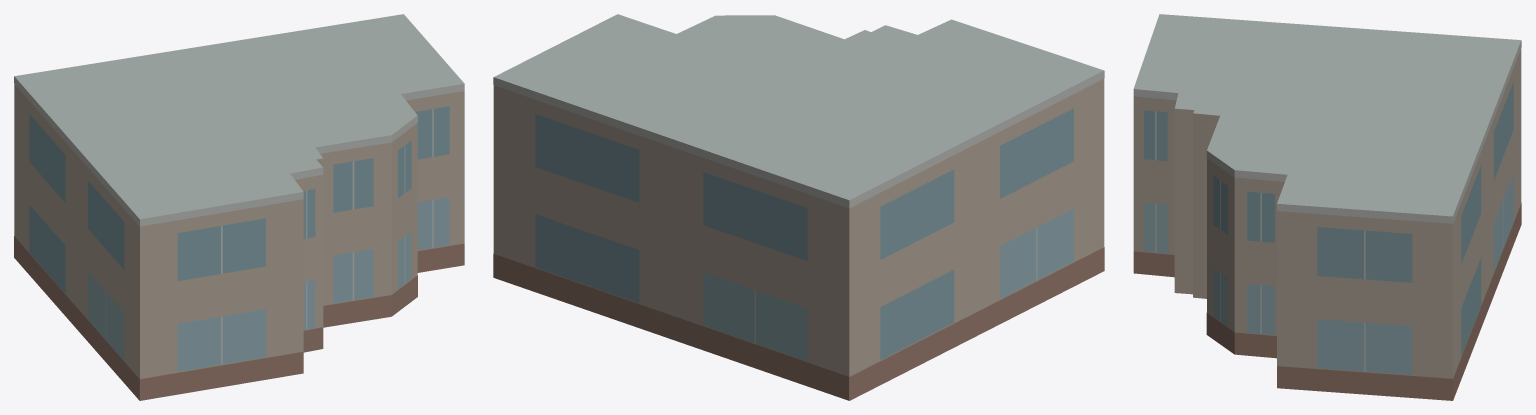
The model's file is survey-upis-32940660.glb.
3 views of the same model, side by side, from view 1: azimuth 30°, elevation 25°; view 2: azimuth 150°, elevation 25°; view 3: azimuth 270°, elevation 25° (orthographic). The views are drawn at different scales.
Parts seen in each view (by area): view 1: survey-upis-32940660.tmp; view 2: survey-upis-32940660.tmp; view 3: survey-upis-32940660.tmp.
Part boxes in pixels (left/top/right/bottom): survey-upis-32940660.tmp: left=14, top=14, right=464, bottom=400; survey-upis-32940660.tmp: left=493, top=14, right=1104, bottom=400; survey-upis-32940660.tmp: left=1133, top=14, right=1521, bottom=400.
Size of the model in its own units: 14.38 by 6.1 by 11.64.
